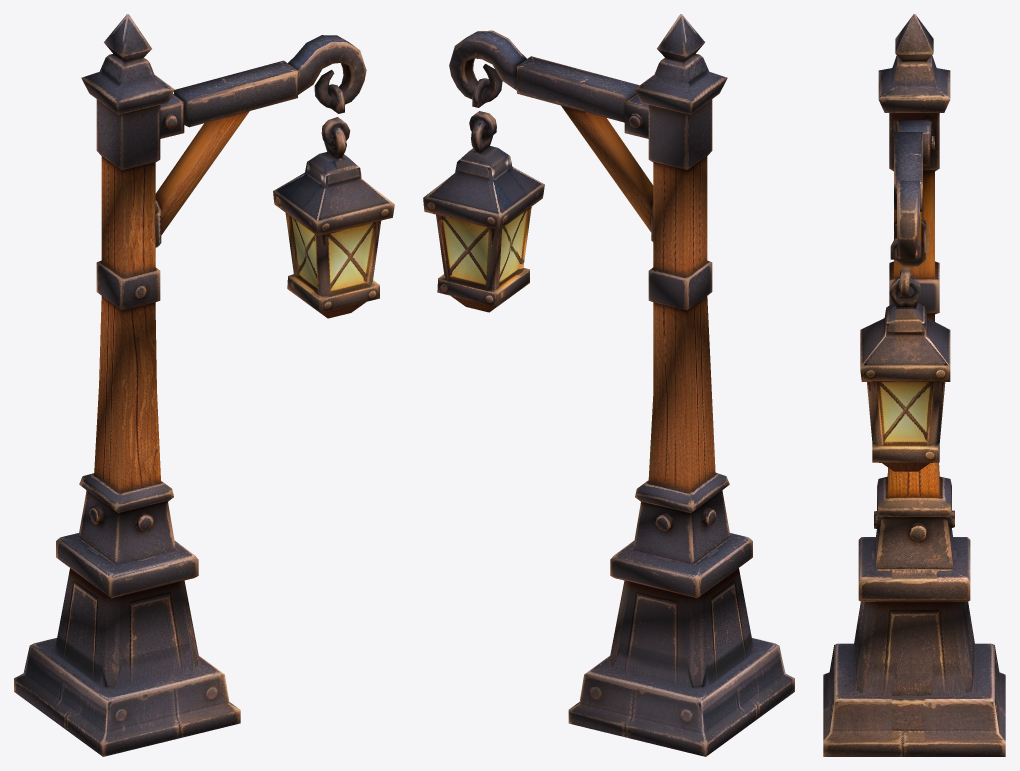
File: street-lamp-tripo-01.glb
3 views of the same model, side by side, from view 1: azimuth 30°, elevation 25°; view 2: azimuth 150°, elevation 25°; view 3: azimuth 270°, elevation 25° (orthographic). The views are drawn at different scales.
Parts seen in each view (by area): view 1: tripo_node_c8b0276e-1c47-473f-b485-050cb98ba3db; view 2: tripo_node_c8b0276e-1c47-473f-b485-050cb98ba3db; view 3: tripo_node_c8b0276e-1c47-473f-b485-050cb98ba3db.
Part boxes in pixels (x1,y1,x2,y2): tripo_node_c8b0276e-1c47-473f-b485-050cb98ba3db: (14, 14, 394, 756); tripo_node_c8b0276e-1c47-473f-b485-050cb98ba3db: (423, 14, 794, 756); tripo_node_c8b0276e-1c47-473f-b485-050cb98ba3db: (823, 14, 1005, 756).
Size of the model in its own units: 0.4668 by 0.998 by 0.2324.
1 material, 1 textured.
